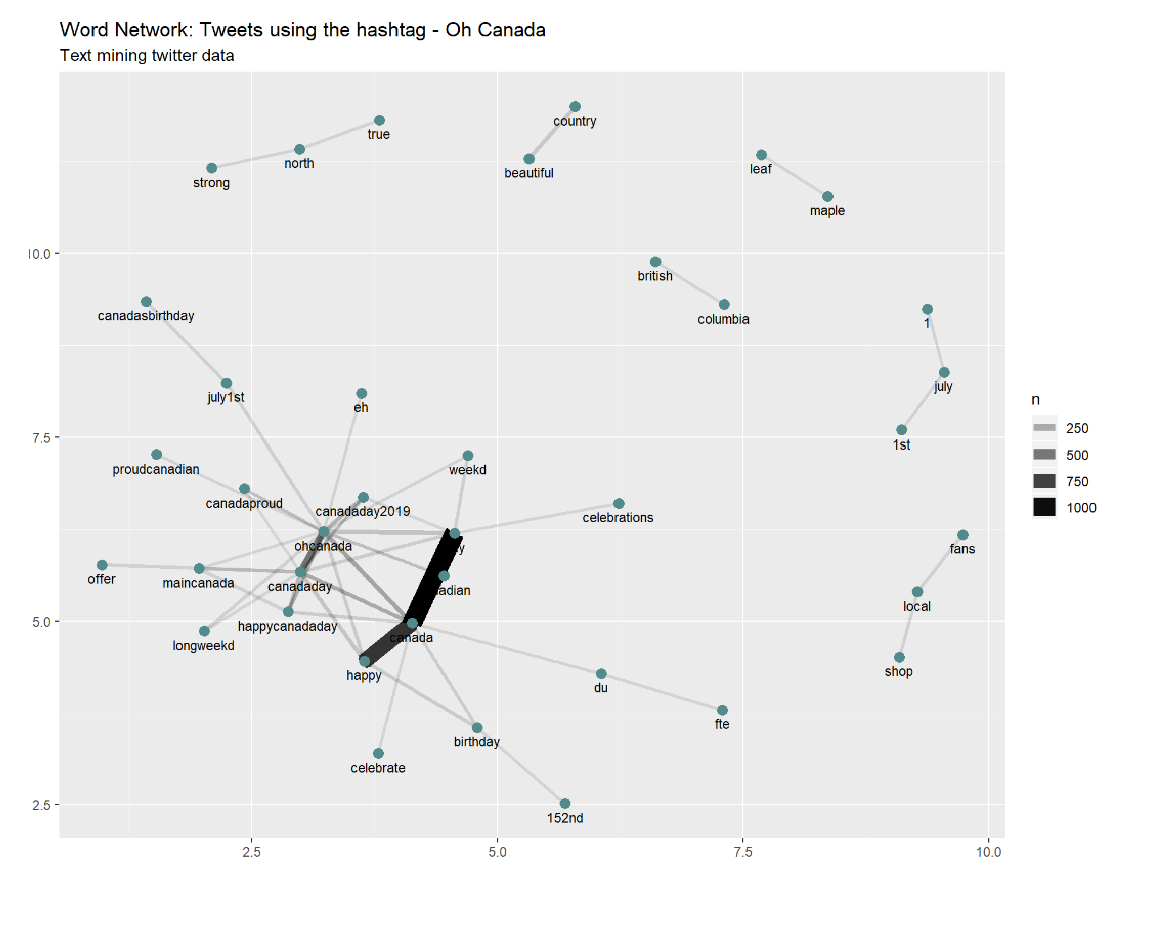

What the dashboard file says about the page in this screenshot:
{"tool":"tableau","page":{"name":"Word network for canada day tweets","canvas":[1000,1000],"units":"permille","ordinal":2},"visuals":[{"type":"image","param":"Image/word network.png","box":[5,9.8,990,980.4]}]}

Visuals, with their boxes on the dashboard's canvas, which has no fixed pixel size, in thousandths of its width and height (x1, y1, x2, y2). These are canvas units, not pixel positions in the 1149x937 screenshot, which may show the page scaled, cropped or inside an application window:
image: x1=5, y1=10, x2=995, y2=990
